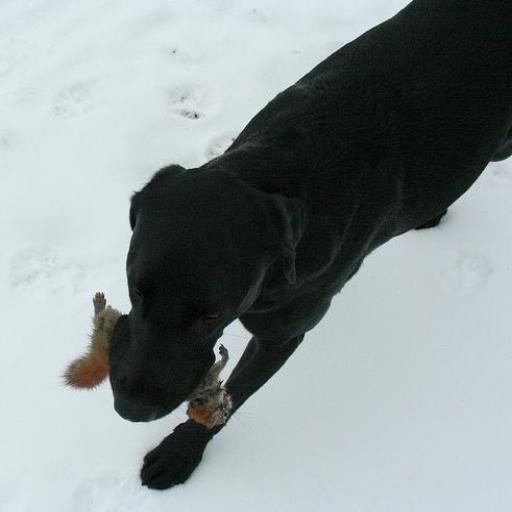dog_face: (94, 172, 285, 424)
